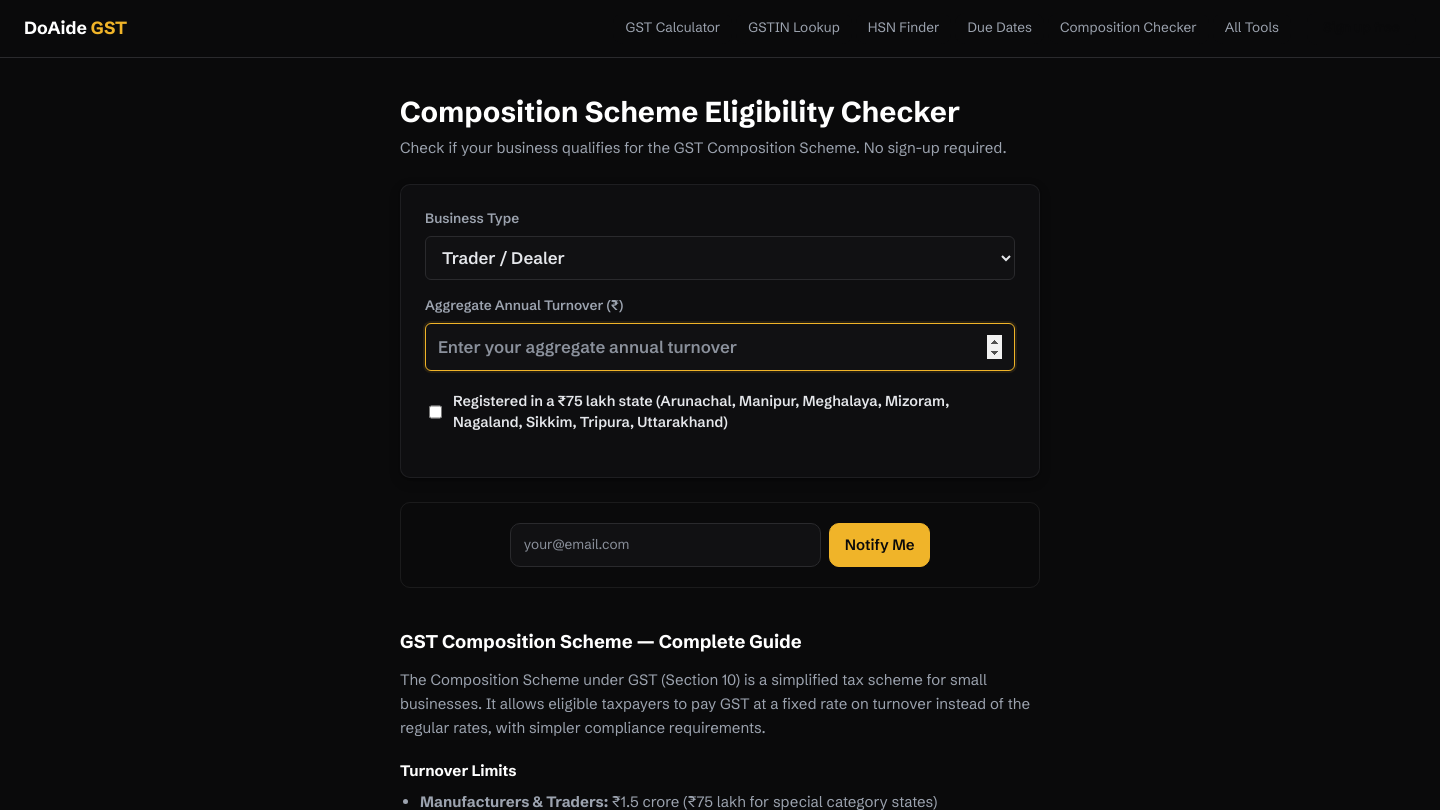
Scenario: CompositionSchemePage › shows share buttons on result
The width and height of the screenshot is (1440, 810).
In the number field with placeholder "Enter your aggregate annual turnover": (720, 347) [425,323,1015,371], type "5000000"
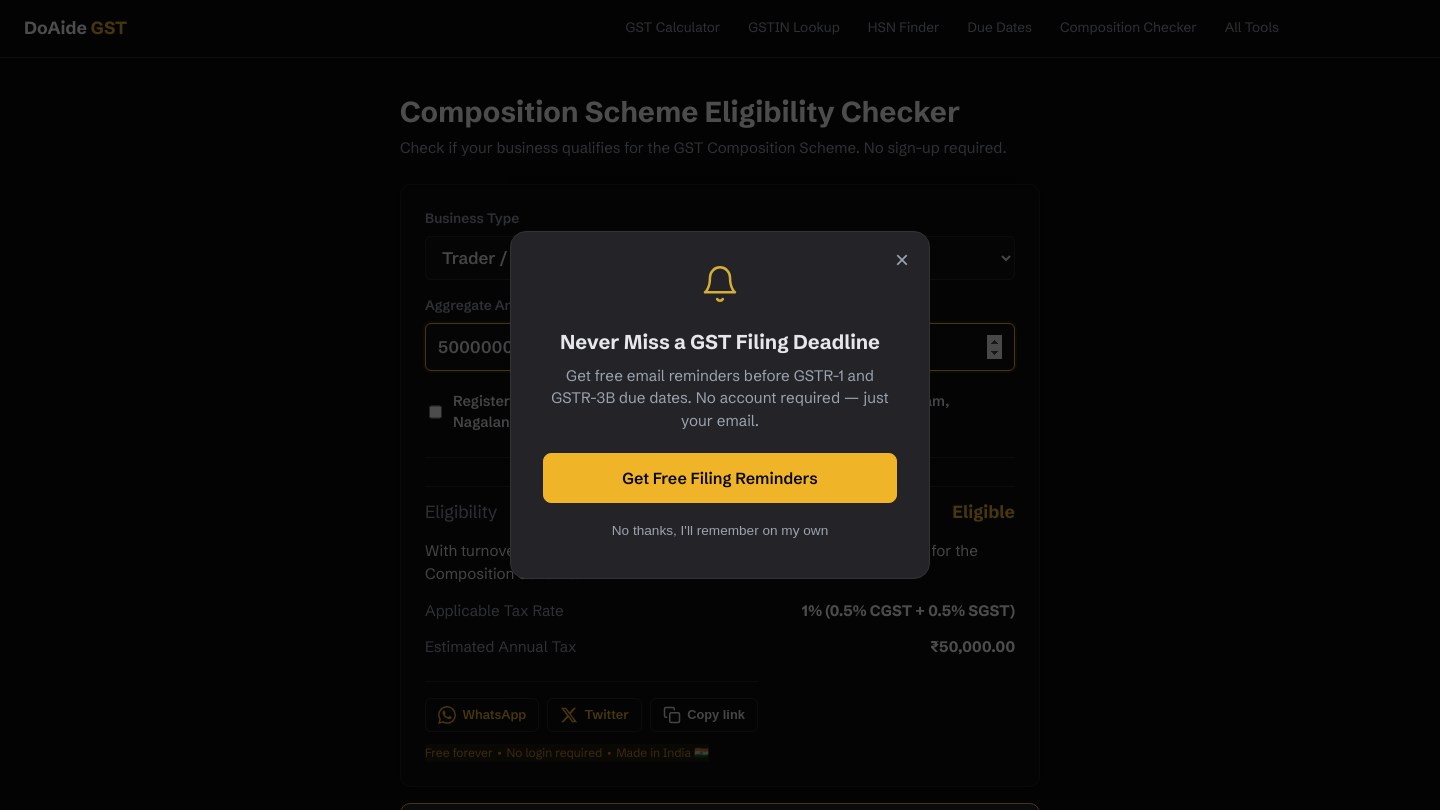
Now the link with aria-label "Share on WhatsApp" is shown, box [425,698,539,732]
